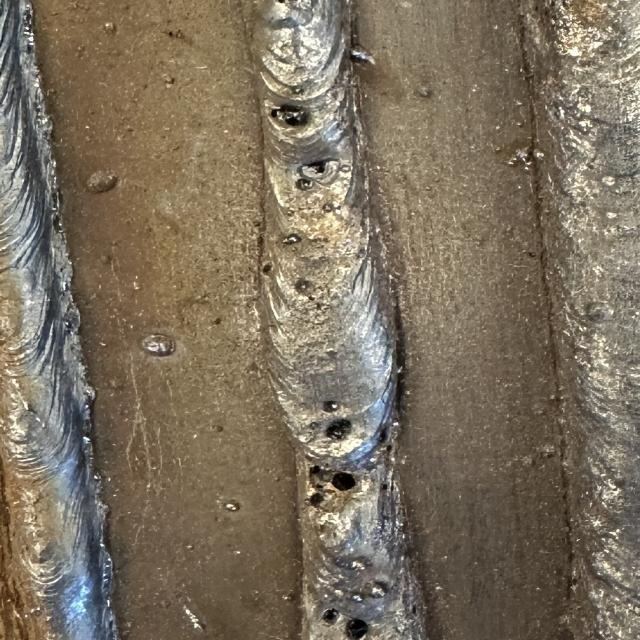Excess Reinforcement: (55, 231, 80, 354), (17, 0, 44, 102), (28, 89, 57, 174), (93, 470, 110, 521), (102, 542, 113, 595), (84, 378, 97, 409), (108, 609, 119, 640)
Porosity: (307, 465, 355, 508), (272, 105, 308, 126), (327, 419, 352, 440), (345, 619, 368, 640), (332, 472, 357, 491), (302, 161, 327, 178), (322, 609, 340, 625), (308, 492, 325, 508), (295, 178, 313, 191), (378, 425, 388, 442), (380, 481, 397, 491), (270, 108, 282, 119), (262, 262, 272, 275), (310, 465, 322, 475), (385, 441, 393, 454), (412, 604, 418, 615), (313, 484, 323, 489), (276, 0, 288, 4)
Spatters: (142, 334, 175, 356), (87, 170, 118, 192), (509, 146, 535, 168), (348, 48, 375, 65), (183, 606, 202, 630), (348, 556, 372, 571), (368, 581, 388, 599), (417, 85, 435, 99), (282, 234, 302, 245), (282, 591, 297, 604), (223, 500, 240, 511), (162, 74, 175, 88), (322, 201, 338, 212), (323, 401, 340, 411), (103, 22, 117, 34), (350, 594, 365, 602), (283, 208, 295, 218), (308, 421, 320, 430), (293, 86, 305, 95), (340, 164, 352, 172), (133, 280, 140, 290), (514, 99, 523, 106), (515, 121, 523, 128), (493, 146, 502, 152), (185, 545, 193, 550), (101, 342, 107, 346), (496, 125, 500, 130)
